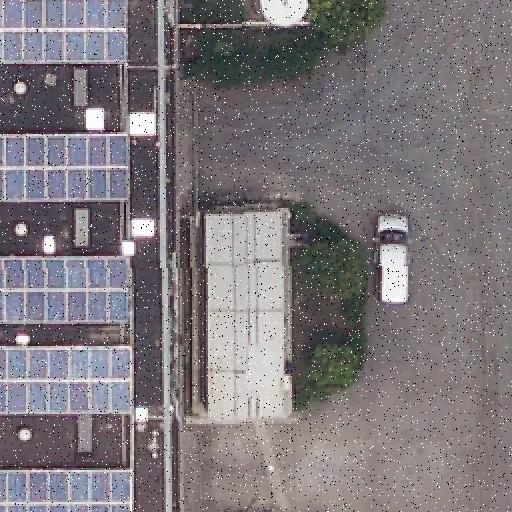solar-panel: (0, 346, 128, 414), (1, 134, 127, 202), (0, 255, 128, 321), (0, 0, 124, 64), (0, 470, 128, 510)
